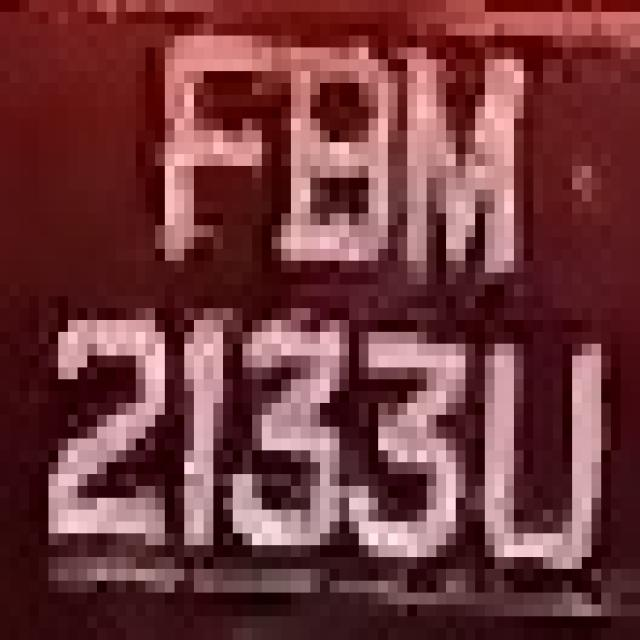1: (165, 296, 223, 593)
2: (19, 308, 174, 593)
3: (213, 296, 349, 581), (330, 308, 466, 593)
B: (262, 24, 398, 308)
F: (136, 12, 262, 284)
M: (368, 12, 562, 296)
U: (494, 320, 611, 604)
